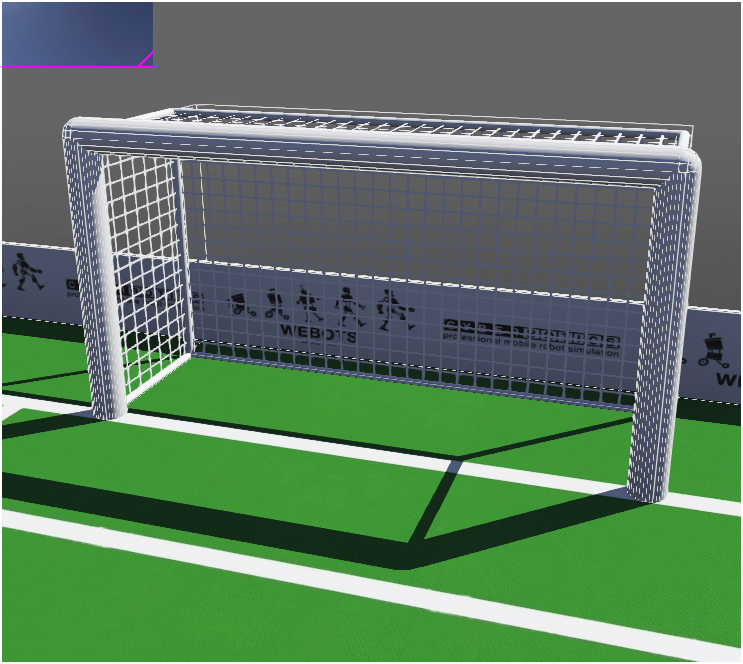Goal: (16, 89, 722, 506)
